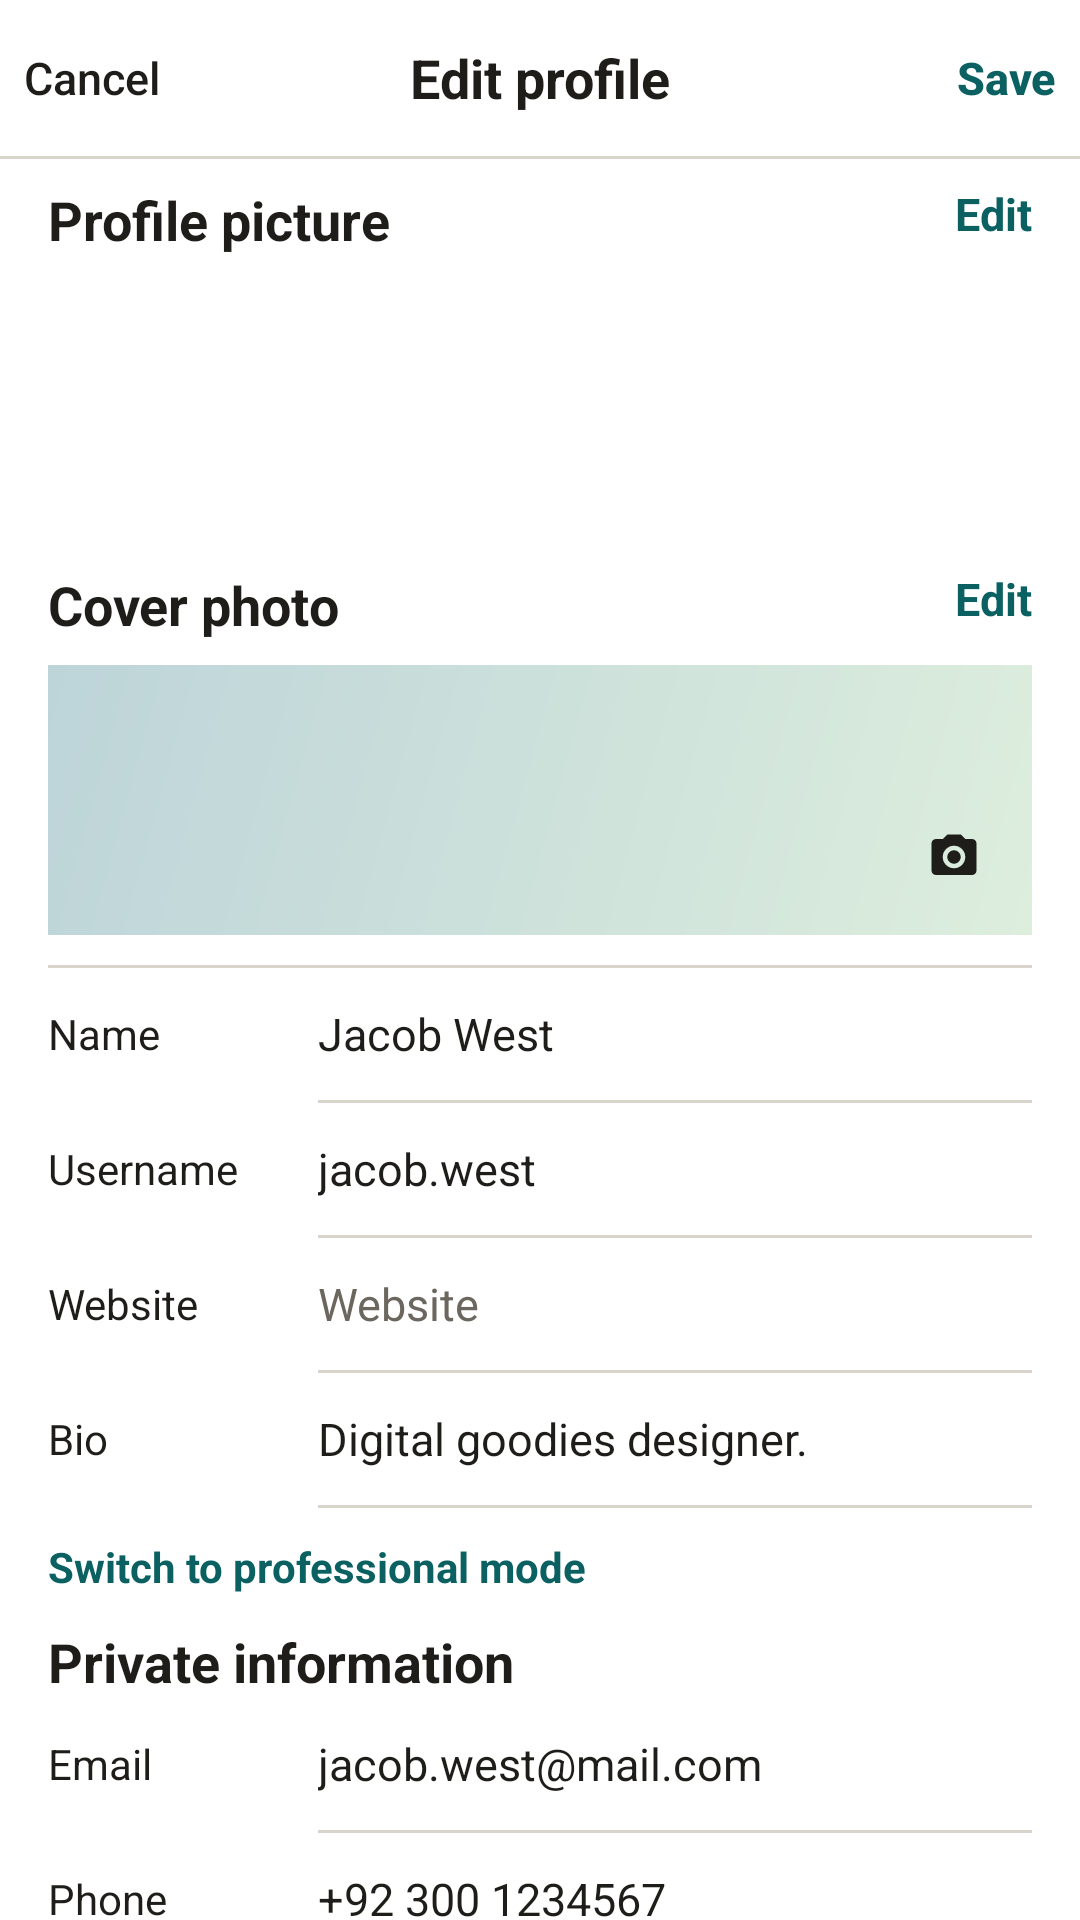

Locate icon controls on the screen. Image size 1080×1920, boxes as (x1, y1, x2, y2).
camera: (931, 834, 977, 875)
